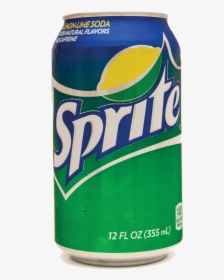sprite_can: (51, 12, 184, 267)
